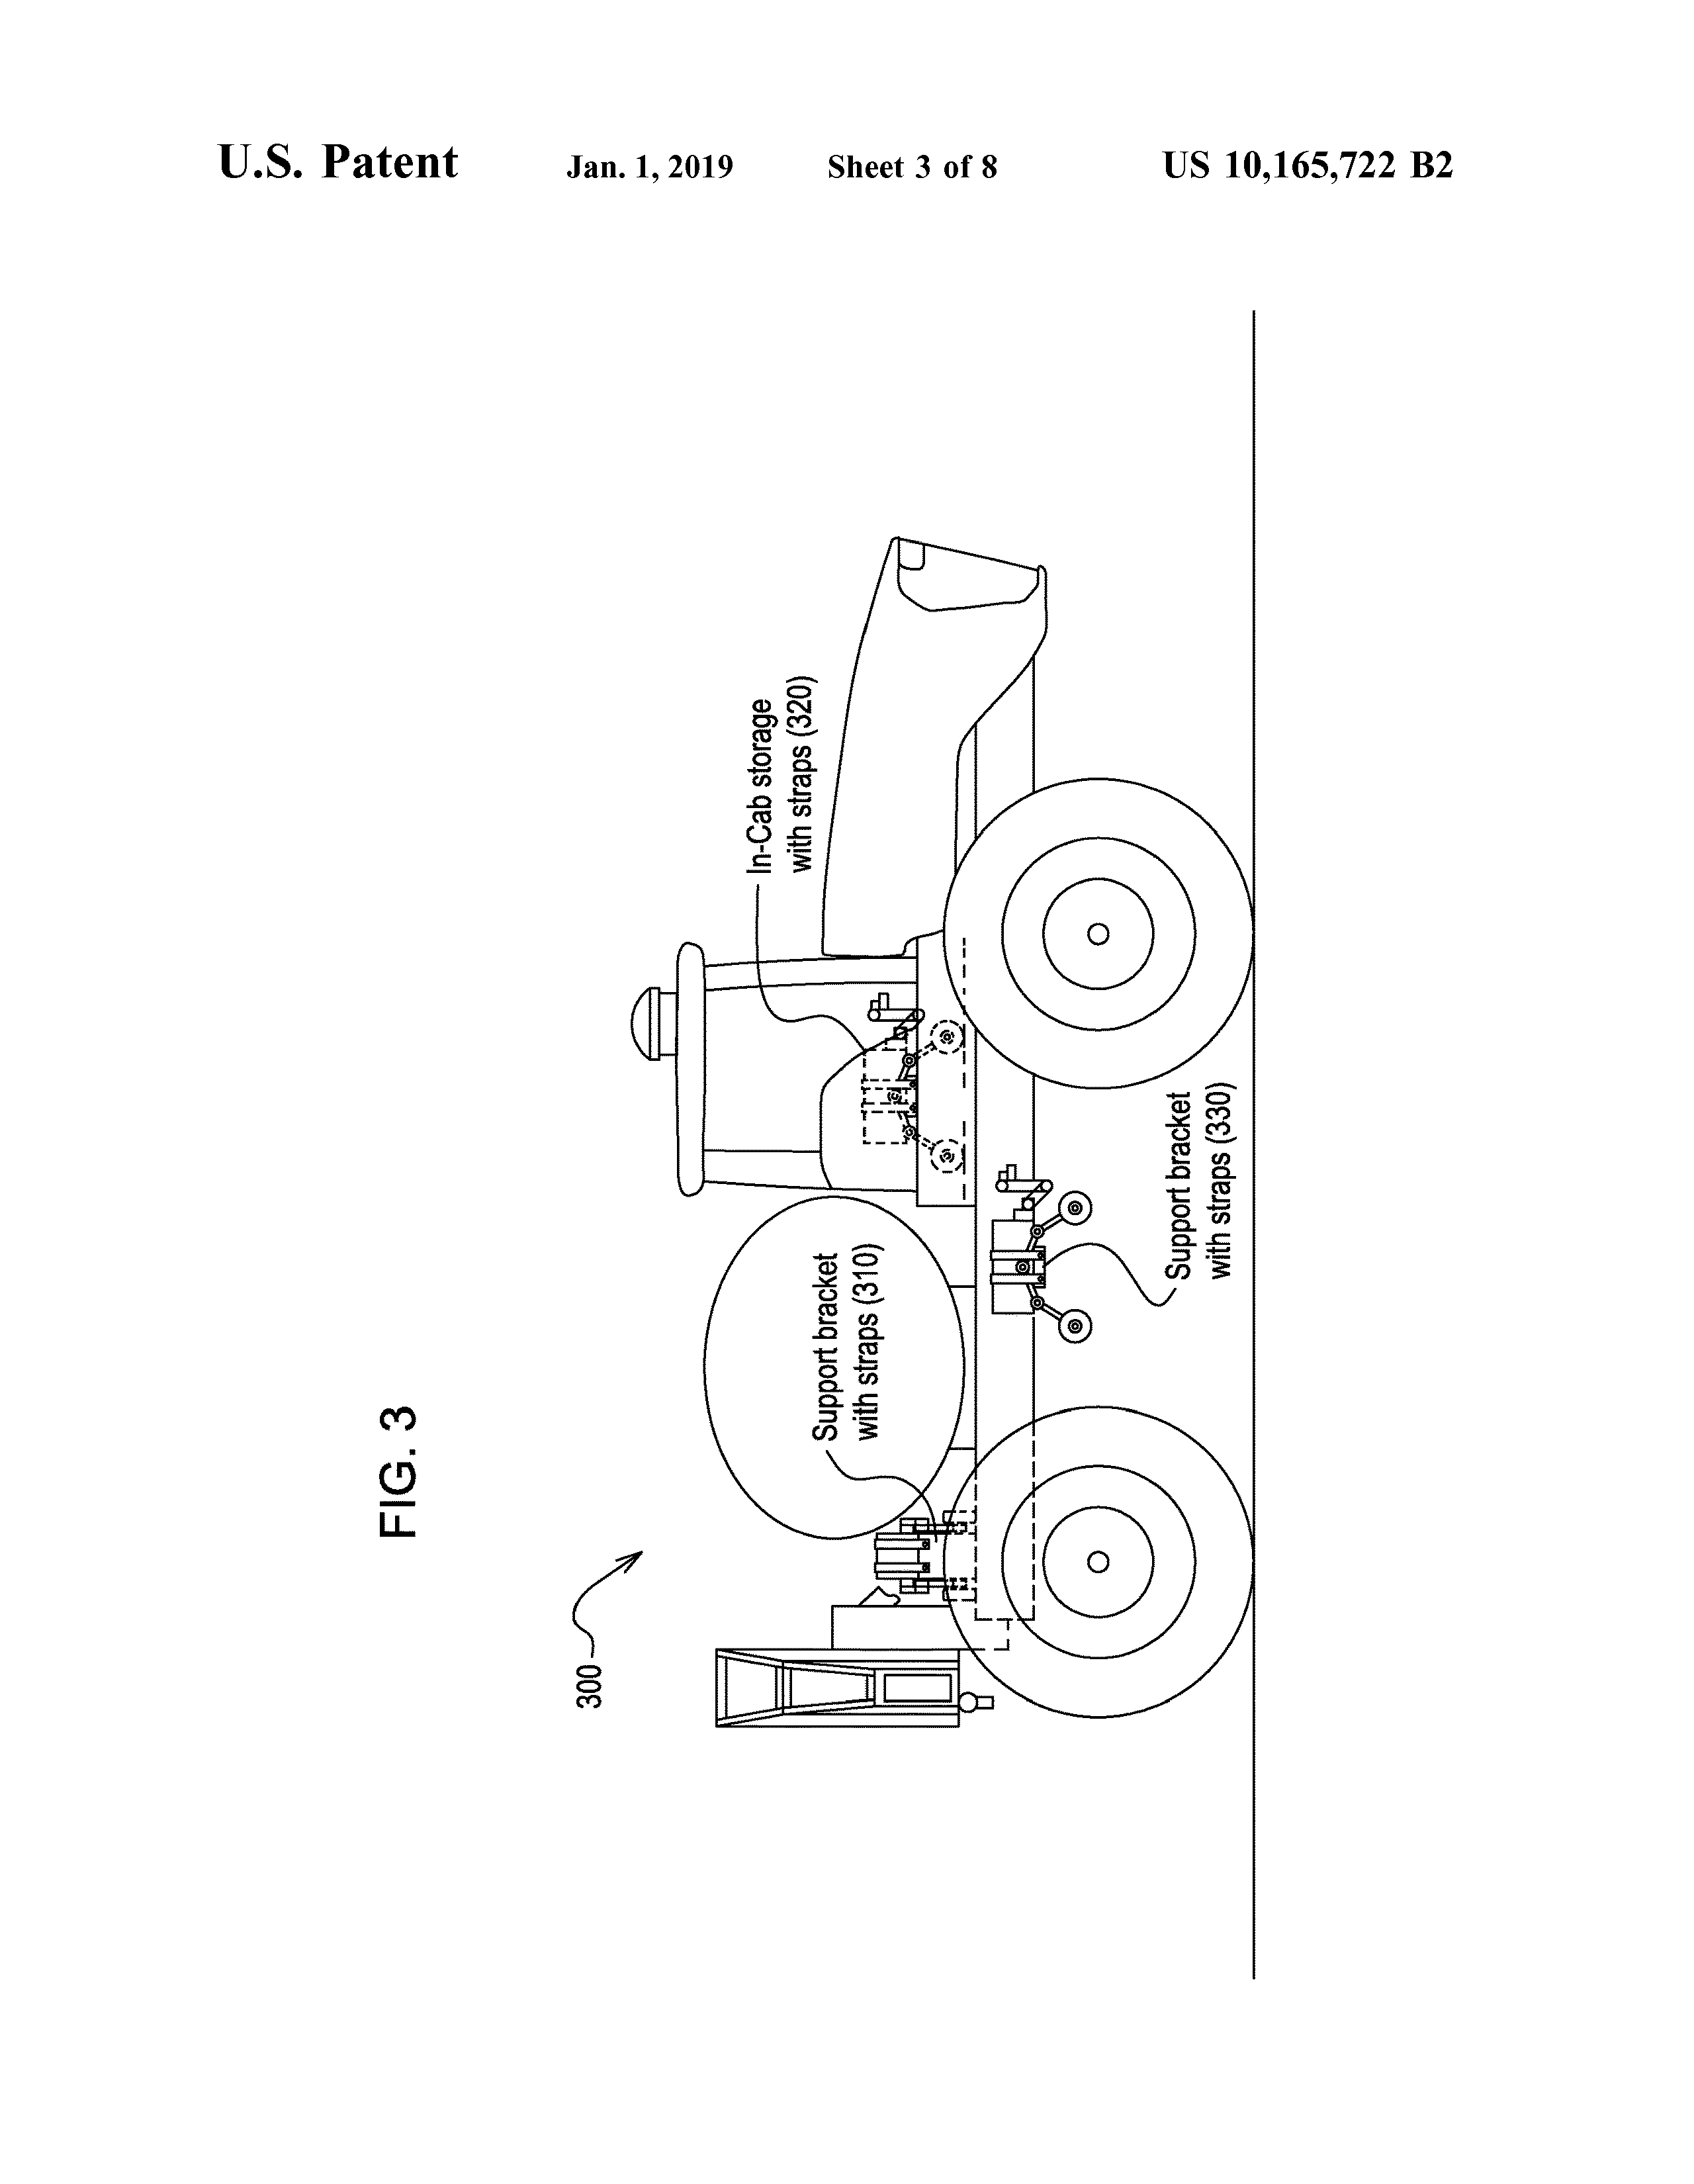patent image: (330, 285, 1337, 2040)
